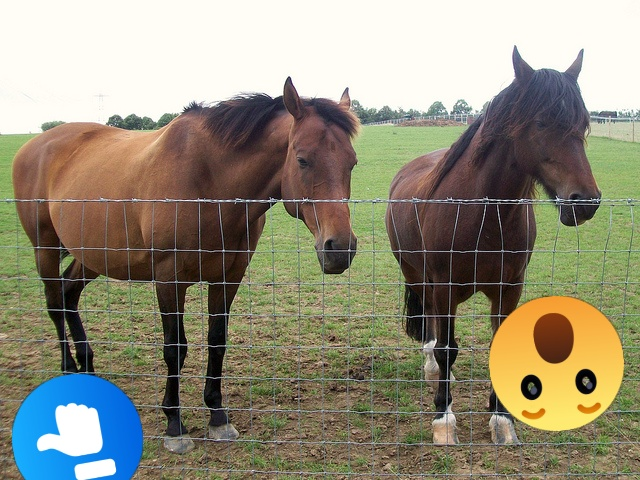like: (12, 374, 143, 480)
wow: (489, 296, 624, 431)
